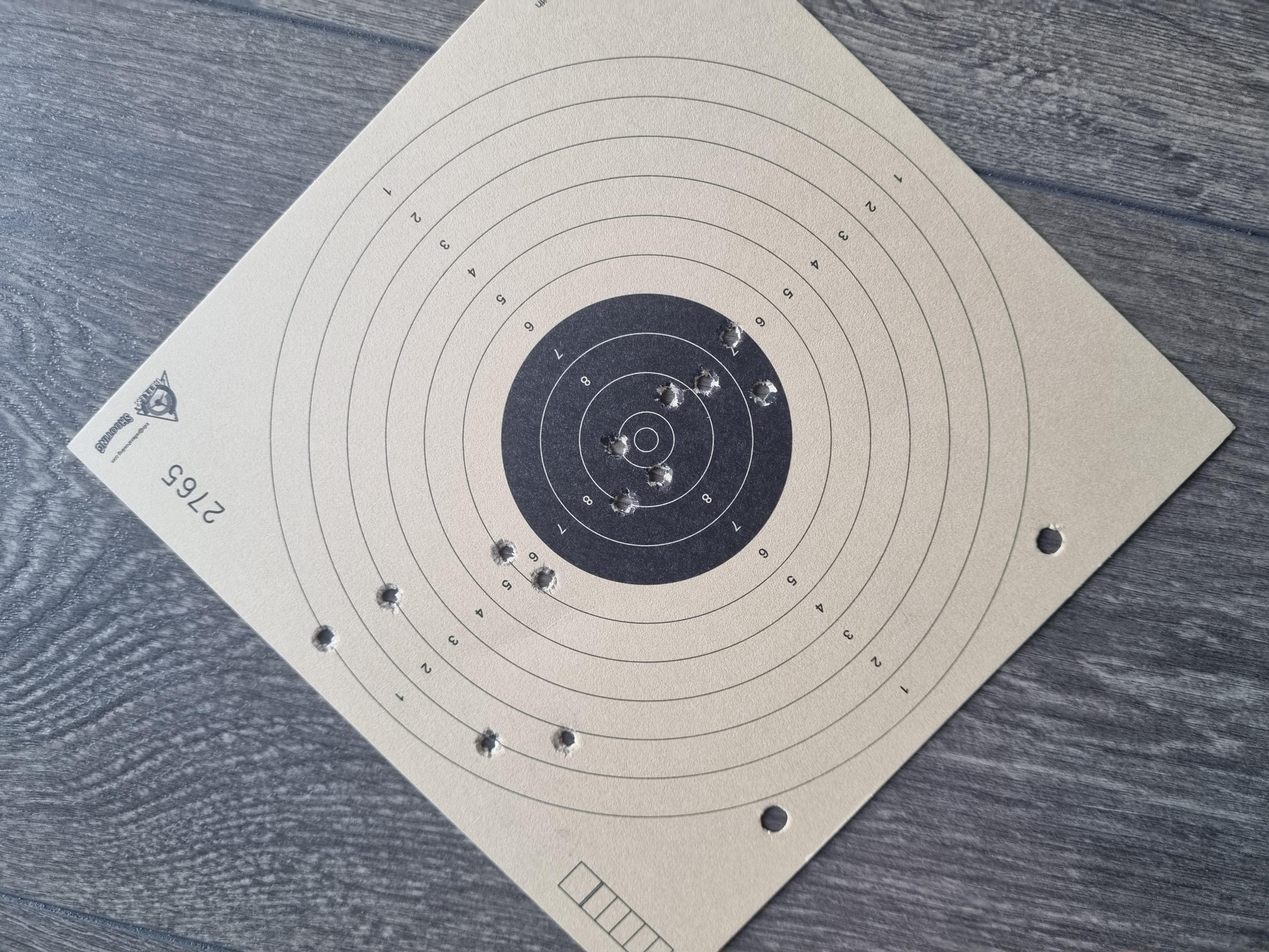hole: (450, 281, 491, 302), (721, 491, 760, 513), (259, 413, 300, 433), (727, 562, 764, 583), (578, 458, 615, 479), (398, 233, 436, 253), (617, 484, 653, 505), (476, 398, 514, 417), (514, 368, 550, 388), (803, 537, 839, 557), (741, 520, 777, 540), (260, 356, 299, 374), (657, 453, 691, 472)
